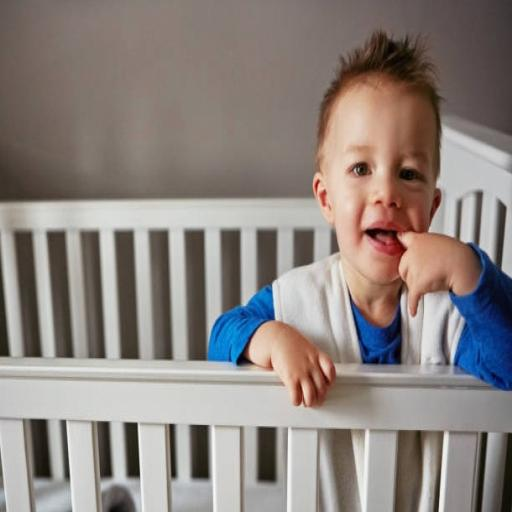baby: (209, 32, 511, 406)
crib: (0, 200, 511, 510)
